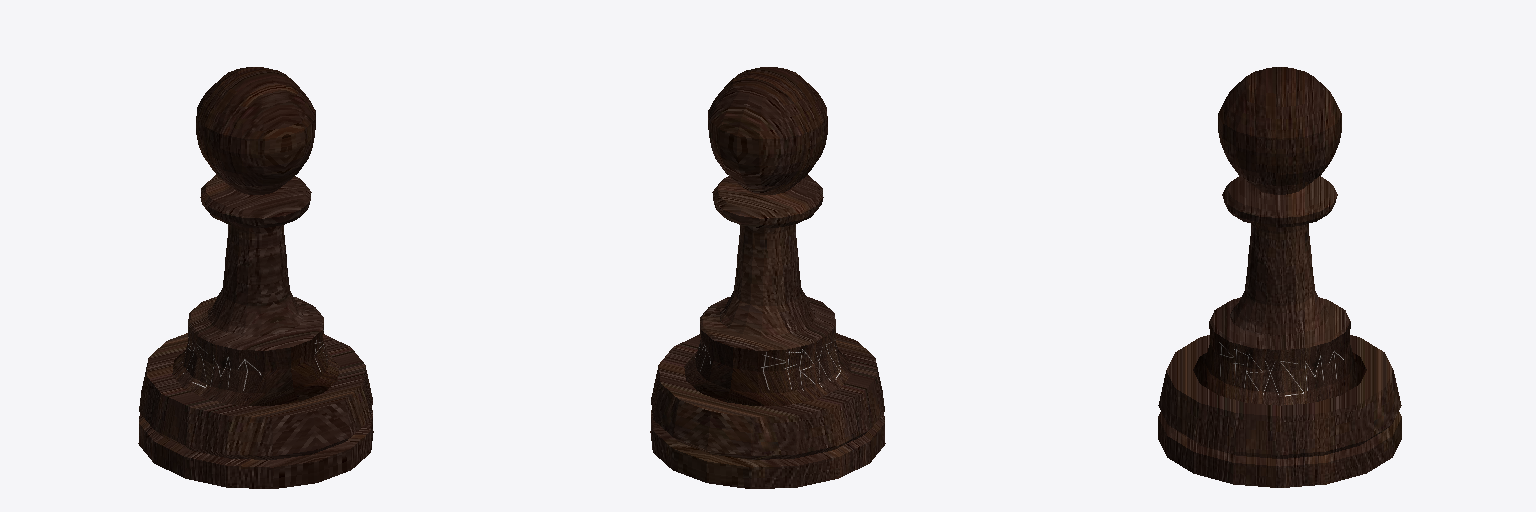
3 views of the same model, side by side, from view 1: azimuth 30°, elevation 25°; view 2: azimuth 150°, elevation 25°; view 3: azimuth 270°, elevation 25° (orthographic).
Visible parts, largest first — view 1: Peon; view 2: Peon; view 3: Peon.
Part boxes in pixels (x1,y1,x2,y2): Peon: (138,67,373,488); Peon: (650,67,885,488); Peon: (1158,67,1401,487).
Bounding box in the file's own units: 0.3985 × 0.6847 × 0.4132.
2 materials, 2 textured.